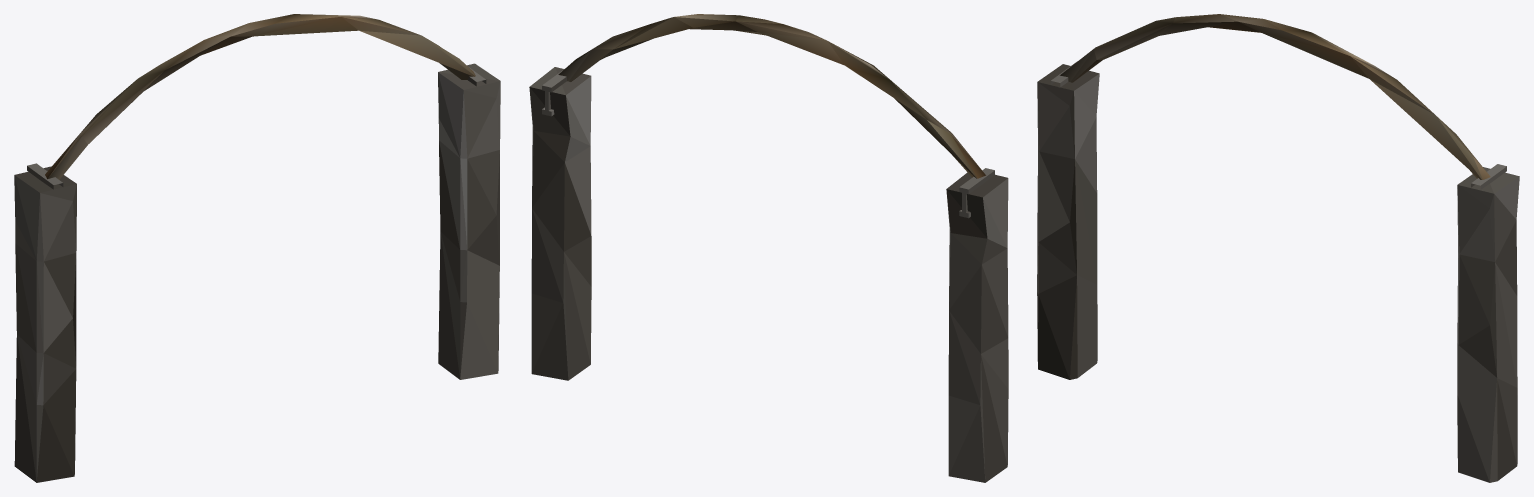
Rendered from Prop-Pergola_End.fbx.
3 renders of one model, left to right at view 1: azimuth 30°, elevation 25°; view 2: azimuth 150°, elevation 25°; view 3: azimuth 330°, elevation 25°, orthographic.
Parts seen in each view (by area): view 1: Prop-Pergola_End; view 2: Prop-Pergola_End; view 3: Prop-Pergola_End.
Part boxes in pixels (x1,y1,x2,y2): Prop-Pergola_End: [14, 14, 500, 482]; Prop-Pergola_End: [529, 14, 1008, 482]; Prop-Pergola_End: [1037, 14, 1519, 482].
Size of the model in its own units: 500 by 414 by 52.99.
